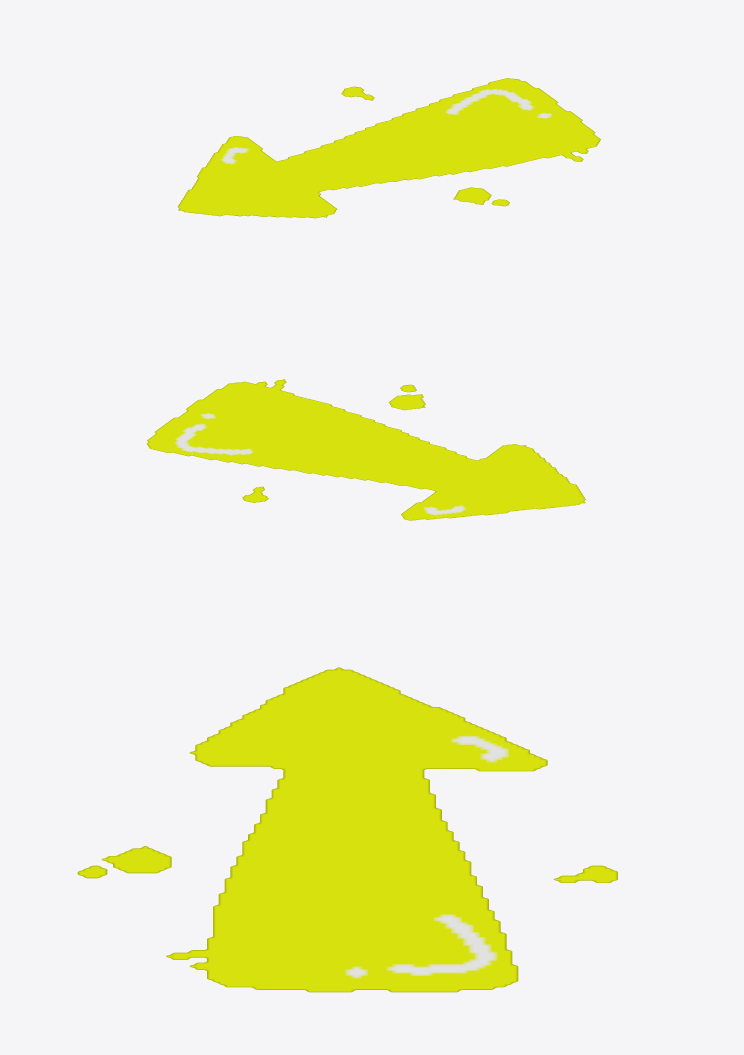
Rendered from Decal_Grafiti10.fbx.
3 renders of one model, top to bottom at view 1: azimuth 30°, elevation 25°; view 2: azimuth 150°, elevation 25°; view 3: azimuth 270°, elevation 25°, orthographic. The views are drawn at different scales.
Visible parts, largest first — view 1: Plane.010; view 2: Plane.010; view 3: Plane.010.
Boxes of the visible parts, x1=… form: Plane.010: x1=177, y1=78, x2=600, y2=218; Plane.010: x1=147, y1=379, x2=585, y2=520; Plane.010: x1=77, y1=667, x2=617, y2=992.
Bounding box in the file's own units: 3.33 × 0 × 2.44.
